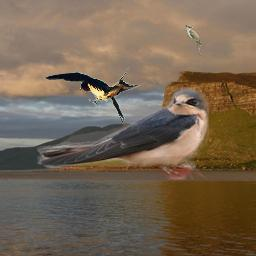Cuckoo: (184, 24, 202, 57)
Swallow: (37, 86, 209, 180), (43, 67, 155, 126)
